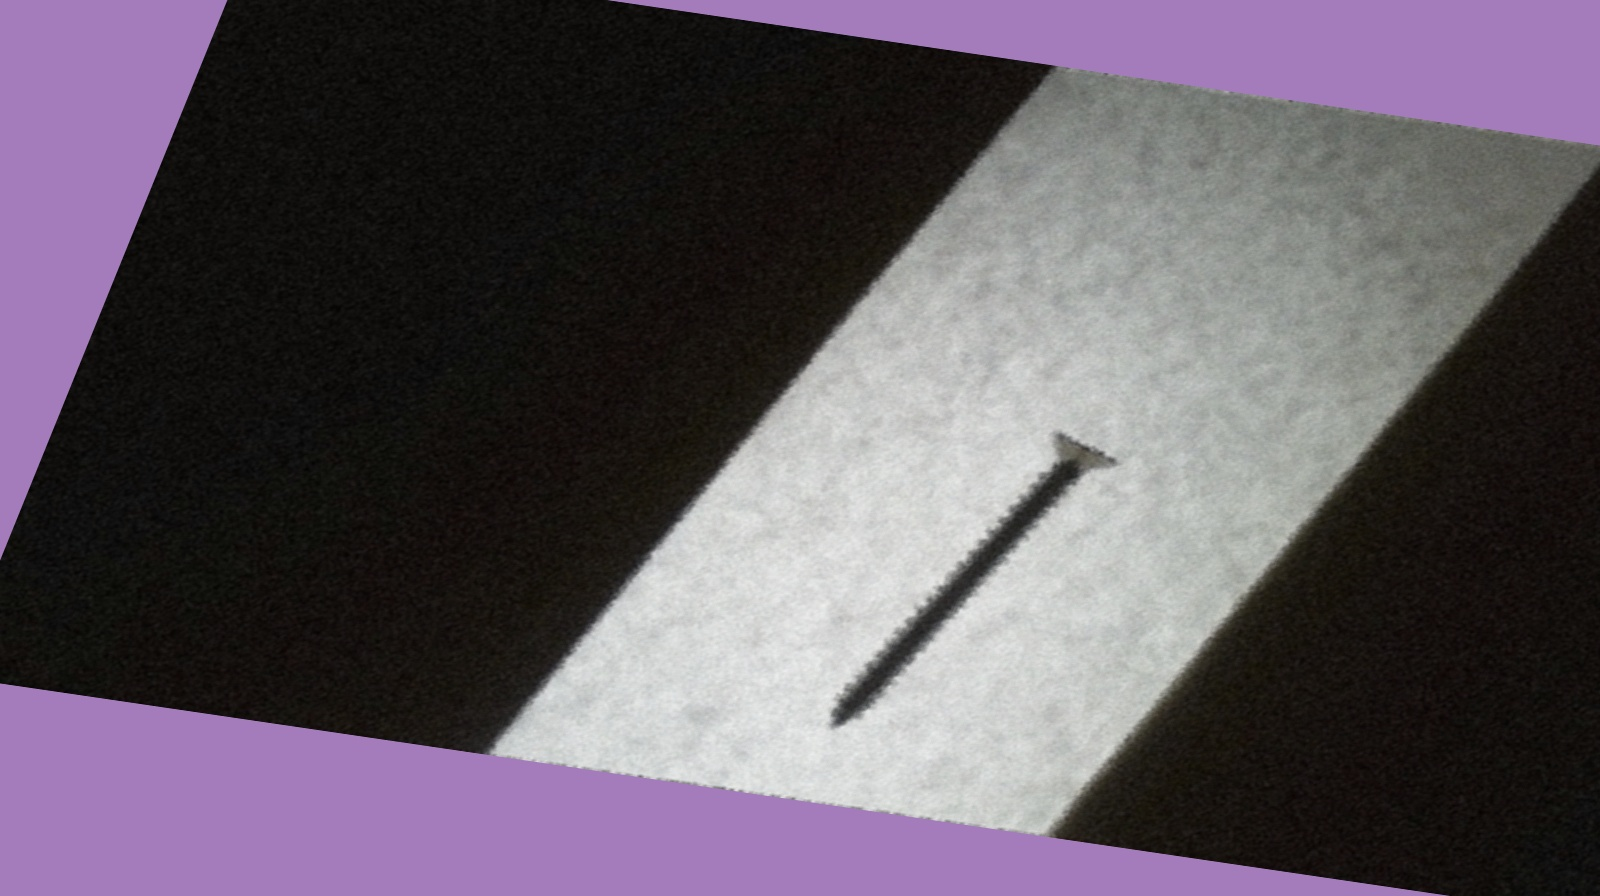S002: (787, 402, 1147, 773)
